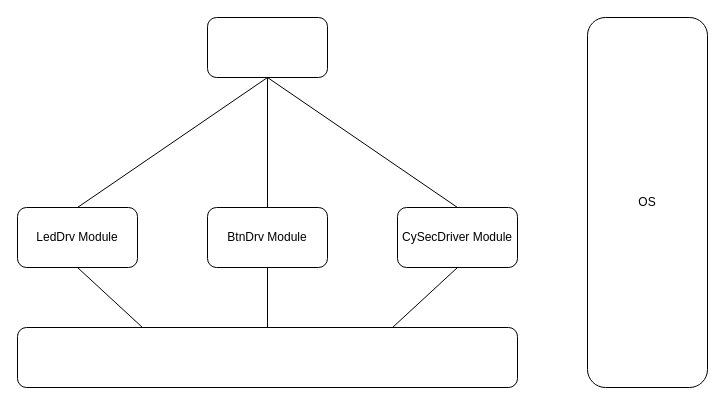
This 725x405 diagram has some shape labels left out. The centre of each missing label's shape, as x and y in pixels:
"Application module" belongs at point (267, 47).
"uC" belongs at point (267, 357).
